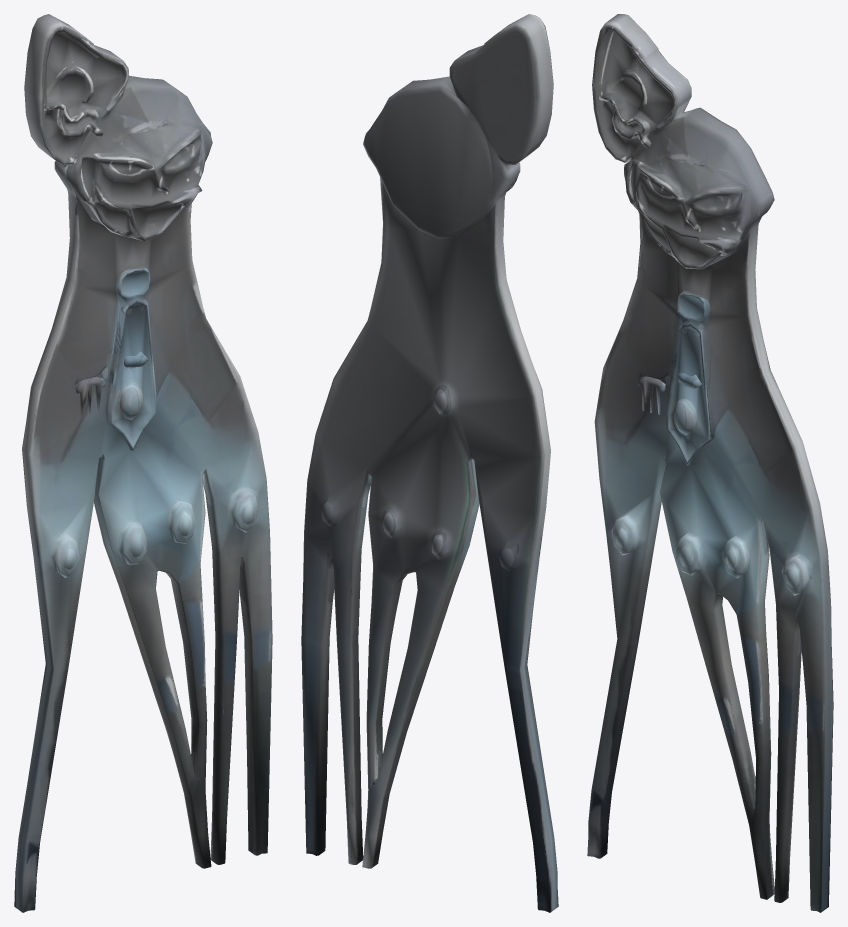
The picture shows the model from 3 angles, left to right: view 1: azimuth 30°, elevation 25°; view 2: azimuth 150°, elevation 25°; view 3: azimuth 330°, elevation 25°; orthographic projection. The views are drawn at different scales.
Visible parts, largest first — view 1: tripo_part_1; view 2: tripo_part_1; view 3: tripo_part_1.
Part boxes in pixels (x1,y1,x2,y2): tripo_part_1: (14,14,272,912); tripo_part_1: (301,14,558,912); tripo_part_1: (587,14,833,912).
Bounding box in the file's own units: 0.2871 × 0.9715 × 0.0627.
Materials: 1 (1 with a texture image).
